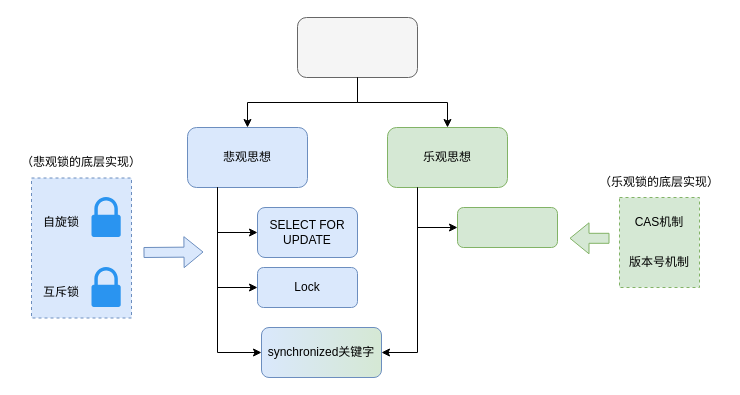
The diagram is 740 pixels wide and 395 high, and some of its shapes have lost their labels. The centre of each missing label's shape, as x and y in pixels:
"AtomicInteger" belongs at pixel 507 227.
"线程安全锁" belongs at pixel 357 47.
